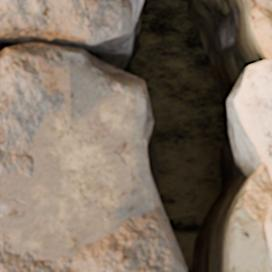brick: (235, 59, 271, 175), (265, 208, 271, 263), (257, 0, 271, 1)
broken_brick: (0, 45, 182, 271), (0, 0, 130, 43)
crack: (0, 0, 269, 271)
